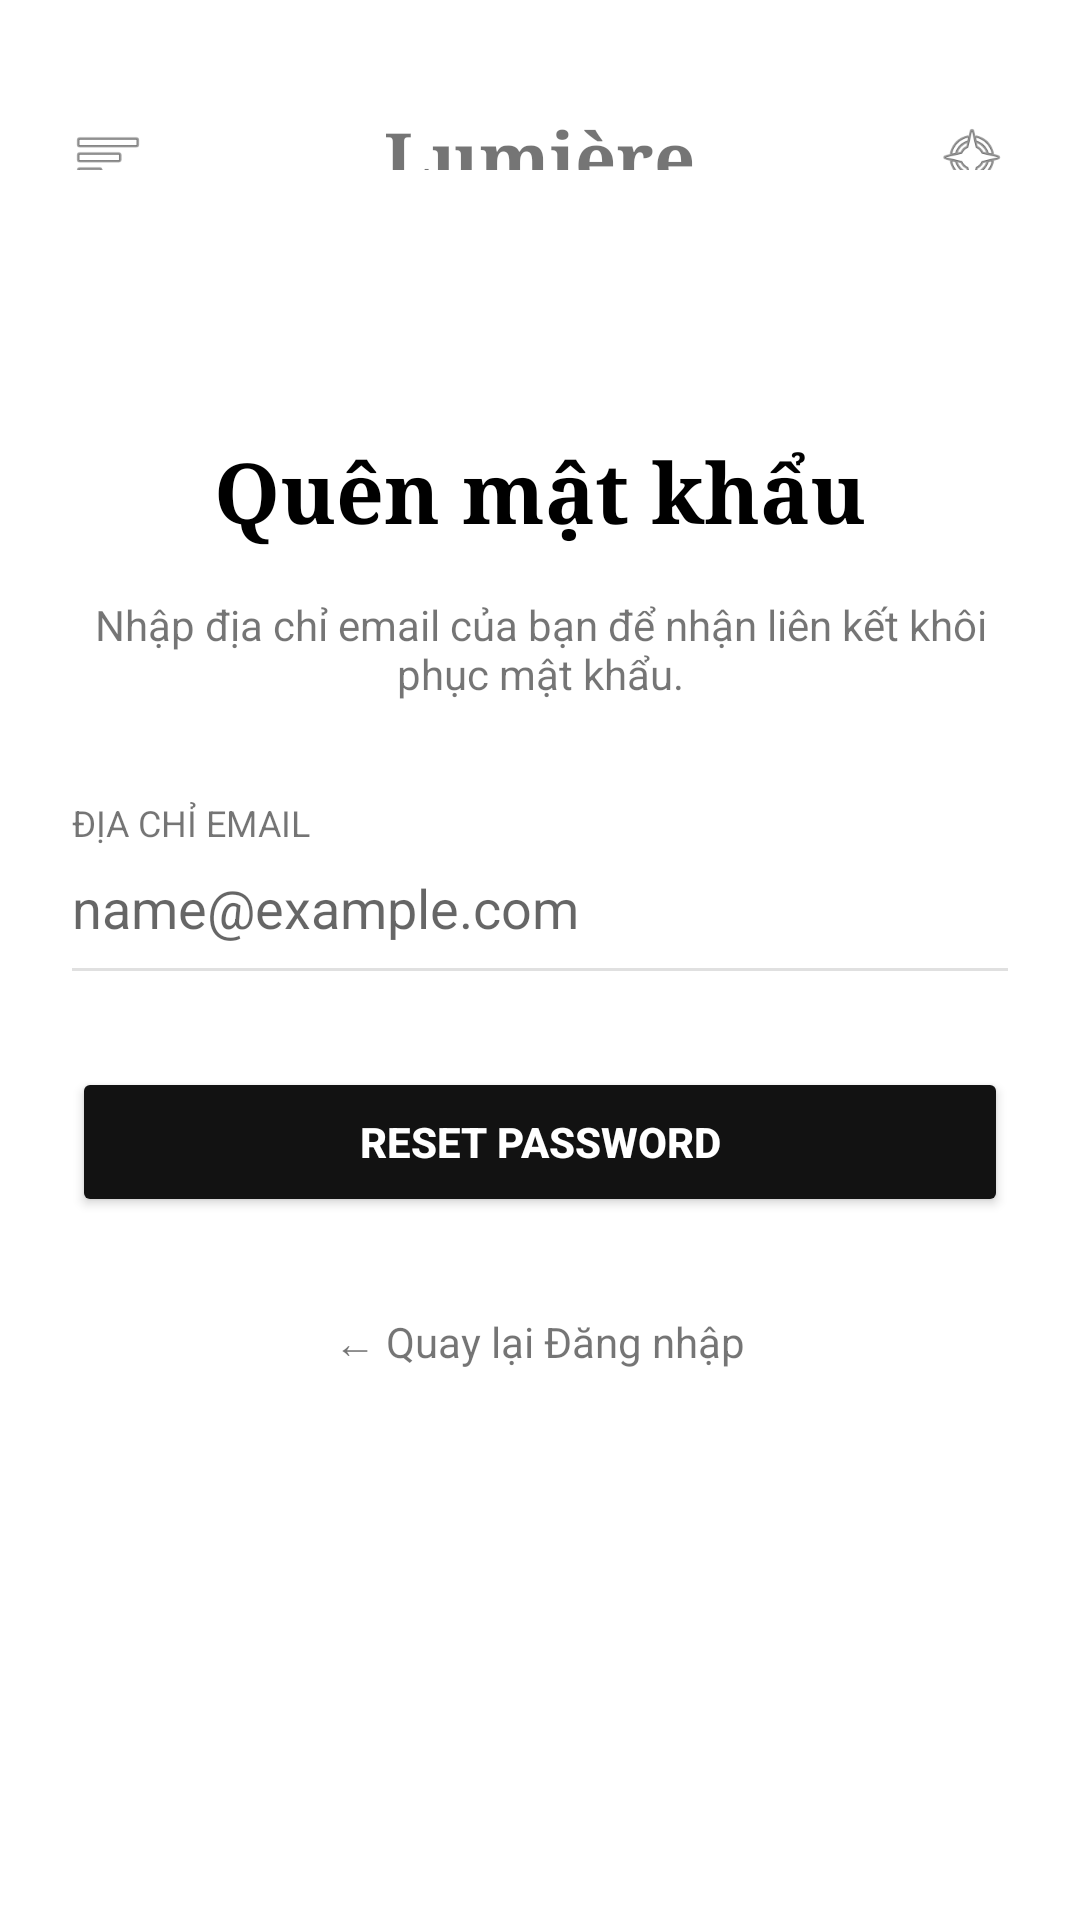

Screen size 1080 x 1920. Icon name, then its center in pixels as (x,y):
compass: (971,149)
sort by size: (108,153)
